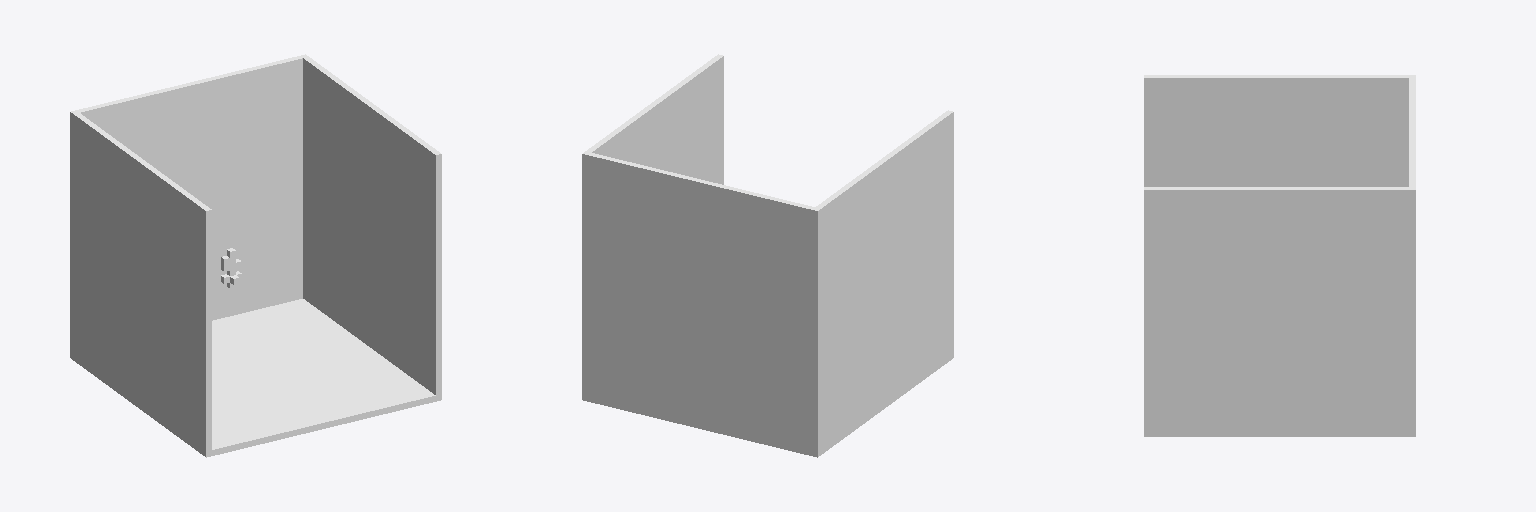
Rendered from SalaSemSaida.obj.
3 renders of one model, left to right at view 1: azimuth 30°, elevation 25°; view 2: azimuth 150°, elevation 25°; view 3: azimuth 270°, elevation 25°, orthographic.
Visible parts, largest first — view 1: SalaSemSaida; view 2: SalaSemSaida; view 3: SalaSemSaida.
Boxes of the visible parts, box(x1,y1,x2,y2) form: SalaSemSaida: box(70, 54, 441, 457); SalaSemSaida: box(582, 54, 953, 457); SalaSemSaida: box(1144, 75, 1415, 436).
Bounding box in the file's own units: 40 × 40 × 40.